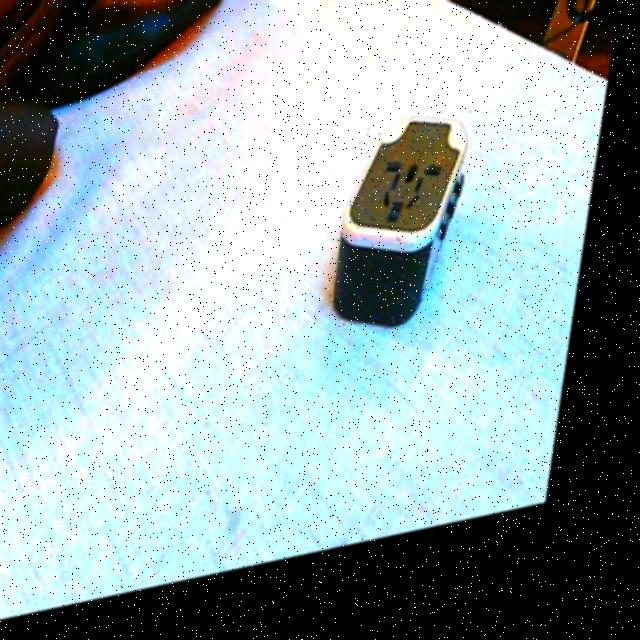adapter: (335, 123, 483, 358)
